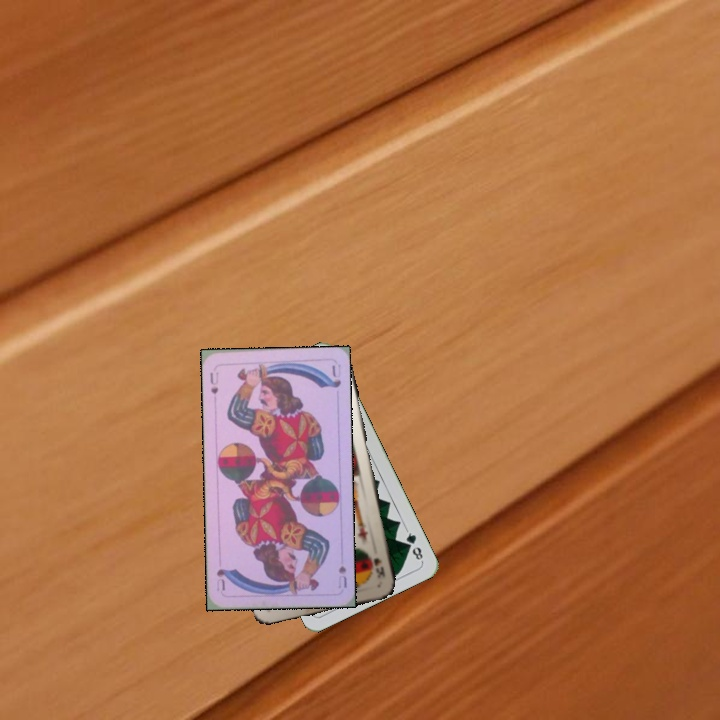G8: (402, 526, 426, 564)
SK: (369, 554, 388, 581)
SU: (206, 368, 221, 405), (334, 562, 349, 591)
